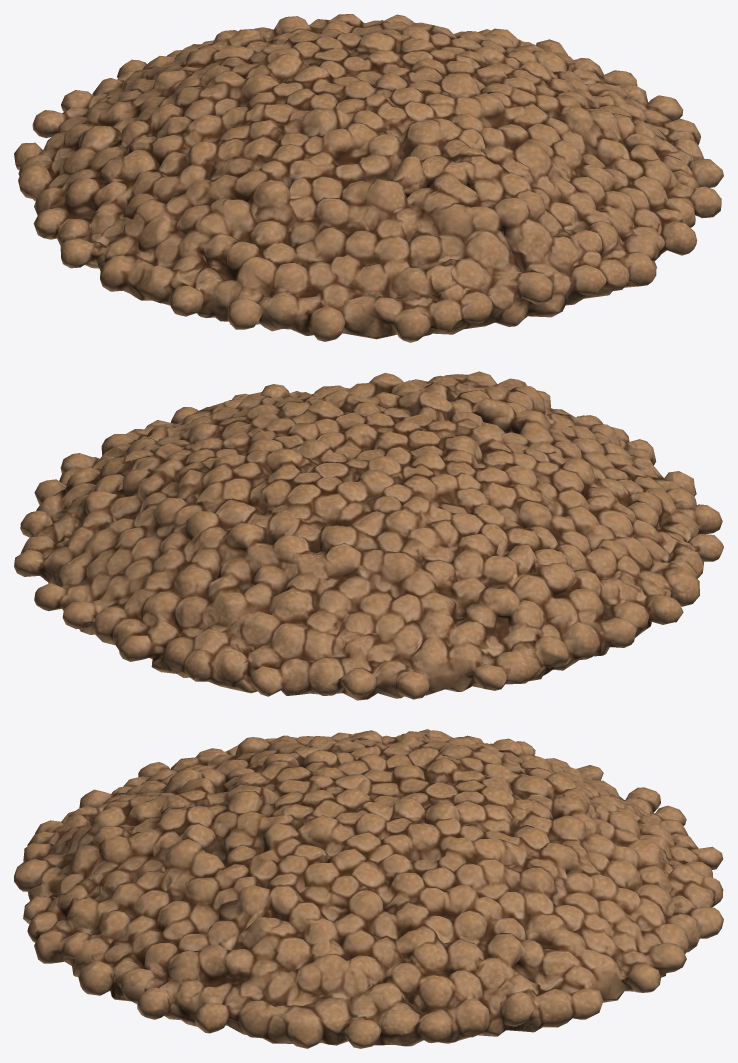
The model's file is Lentejas_Crudas.fbx.
3 views of the same model, one above another, from view 1: azimuth 30°, elevation 25°; view 2: azimuth 150°, elevation 25°; view 3: azimuth 270°, elevation 25° (orthographic).
Parts seen in each view (by area): view 1: Mesh_0; view 2: Mesh_0; view 3: Mesh_0.
Part boxes in pixels (x1,y1,x2,y2): Mesh_0: (14, 14, 723, 342); Mesh_0: (14, 371, 723, 700); Mesh_0: (14, 729, 723, 1048).
Bounding box in the file's own units: 190 × 37.64 × 187.
Materials: 1 (1 with a texture image).
